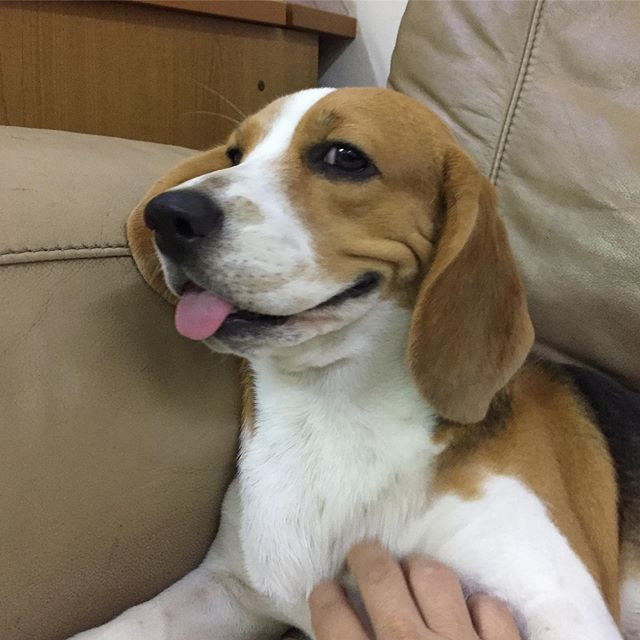dog: (2, 83, 606, 640)
